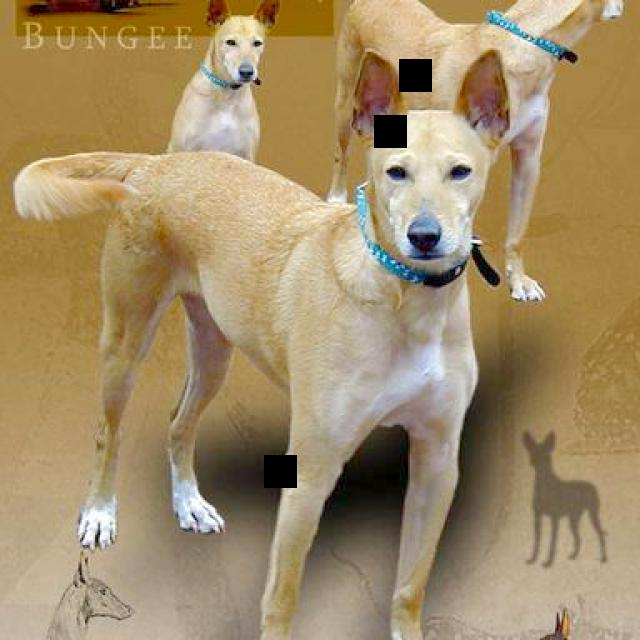adult_dog: (13, 49, 515, 640), (326, 1, 632, 304), (166, 0, 281, 164)
